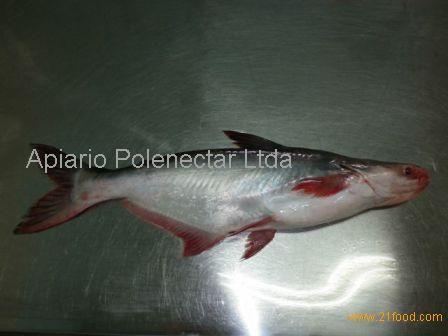Pangasius: (10, 130, 429, 265)
